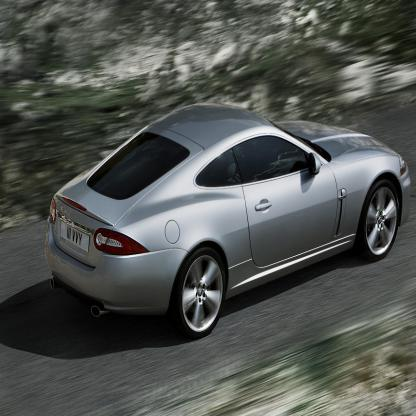Vehicle: (44, 103, 412, 340)
